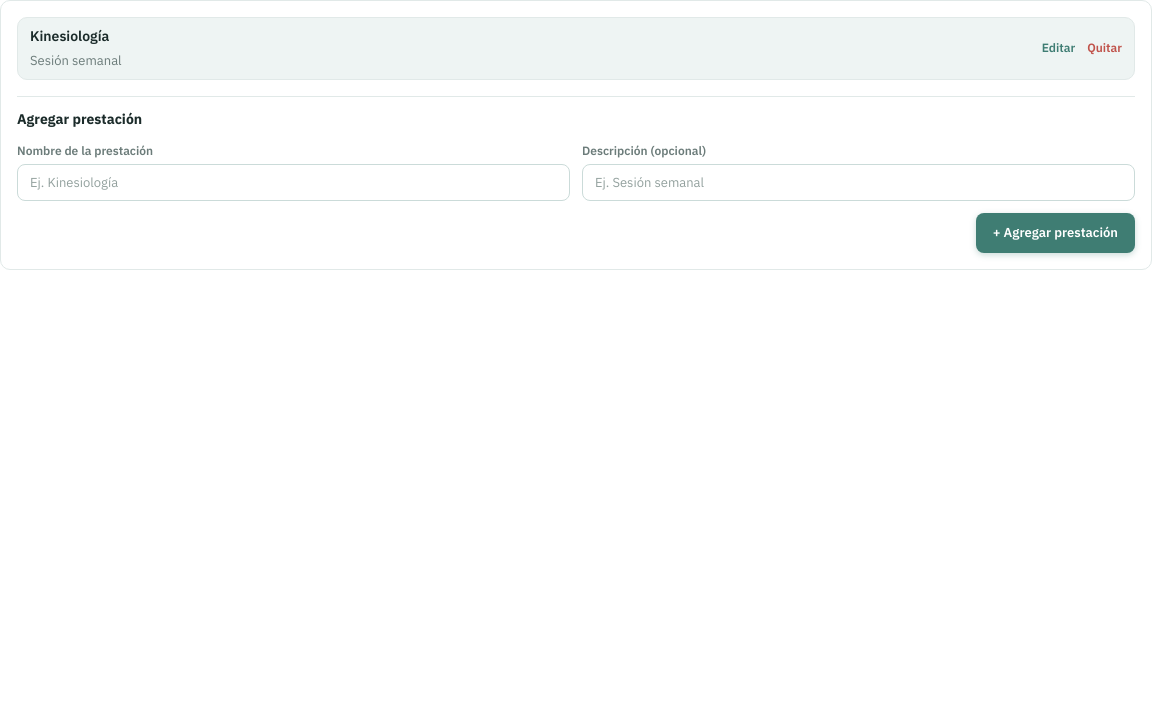
PrestacionesEditor › confirmar el diálogo aplica la baja lógica (activa: false)
This screenshot has width=1152, height=720.
Click the button with aria-label "quitar kinesiología".
click(1105, 48)  # box [1087,40,1122,56]
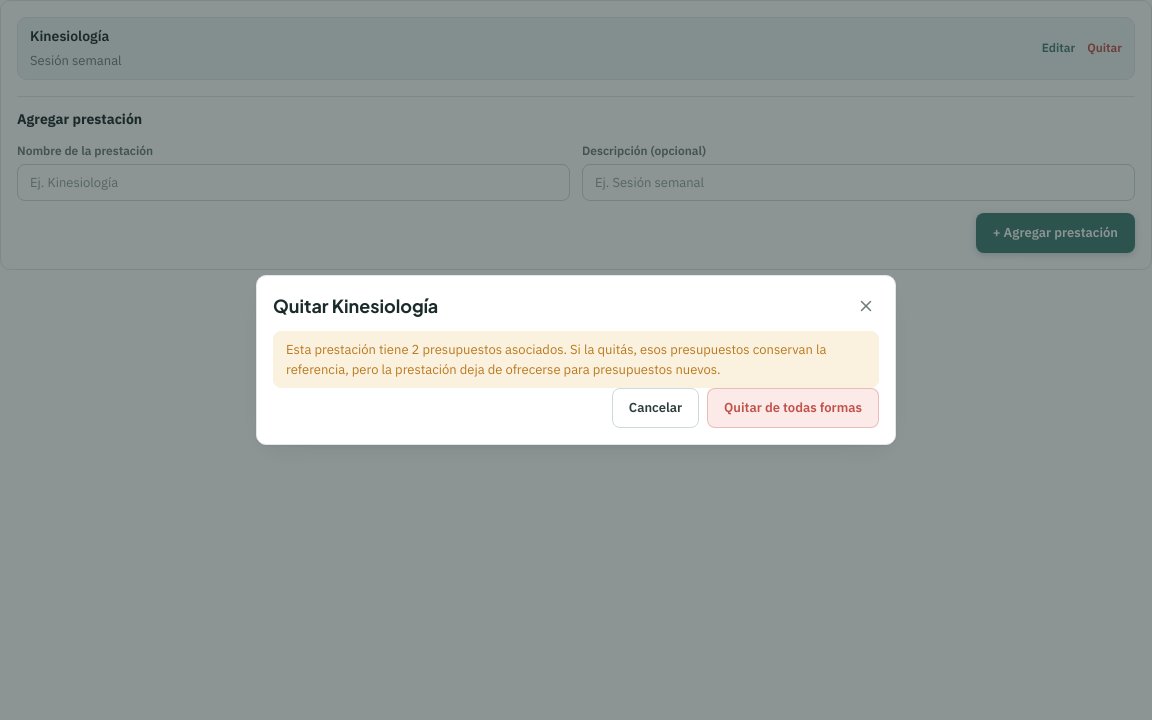
Click the button "Quitar de todas formas".
click(793, 408)  # box [707,388,879,428]
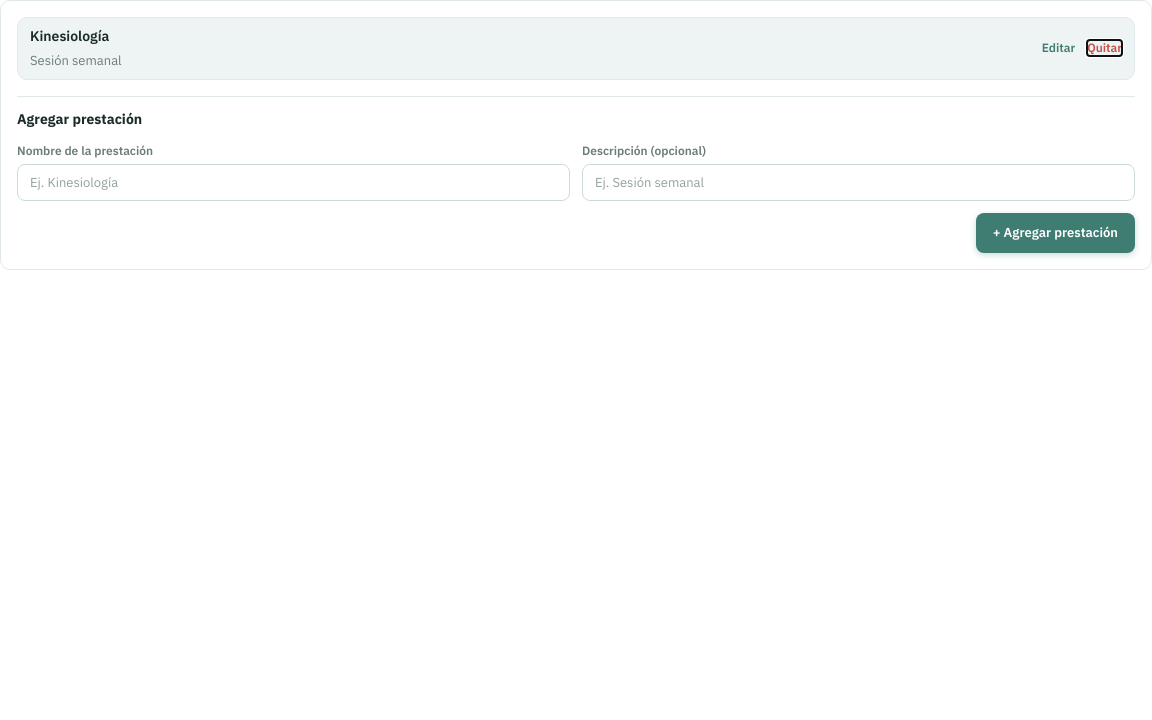
Check: the dialog is gone
